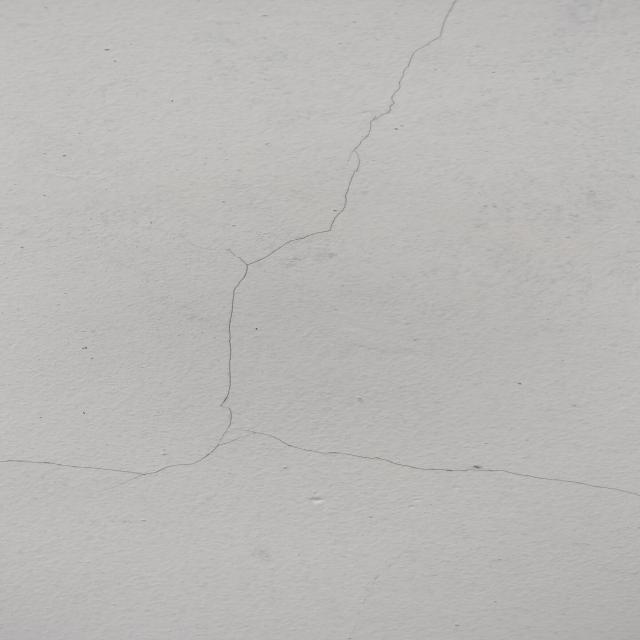Crack: (5, 3, 640, 498)
